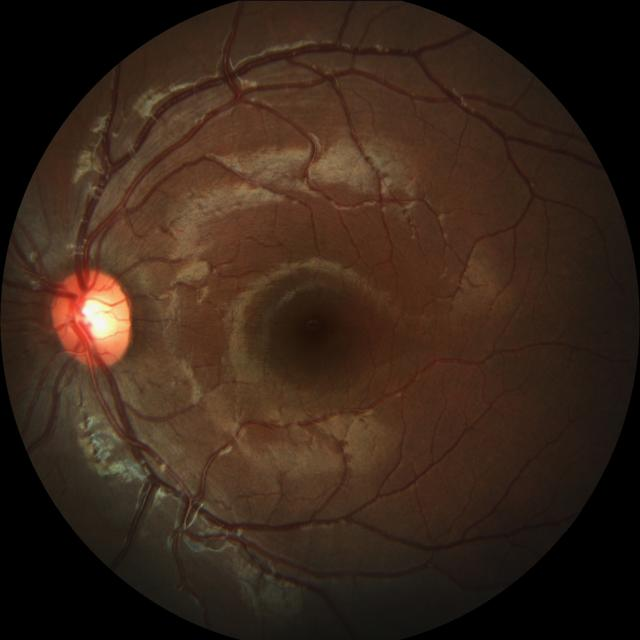OC: (73, 290, 120, 340)
OD: (49, 268, 131, 366)
